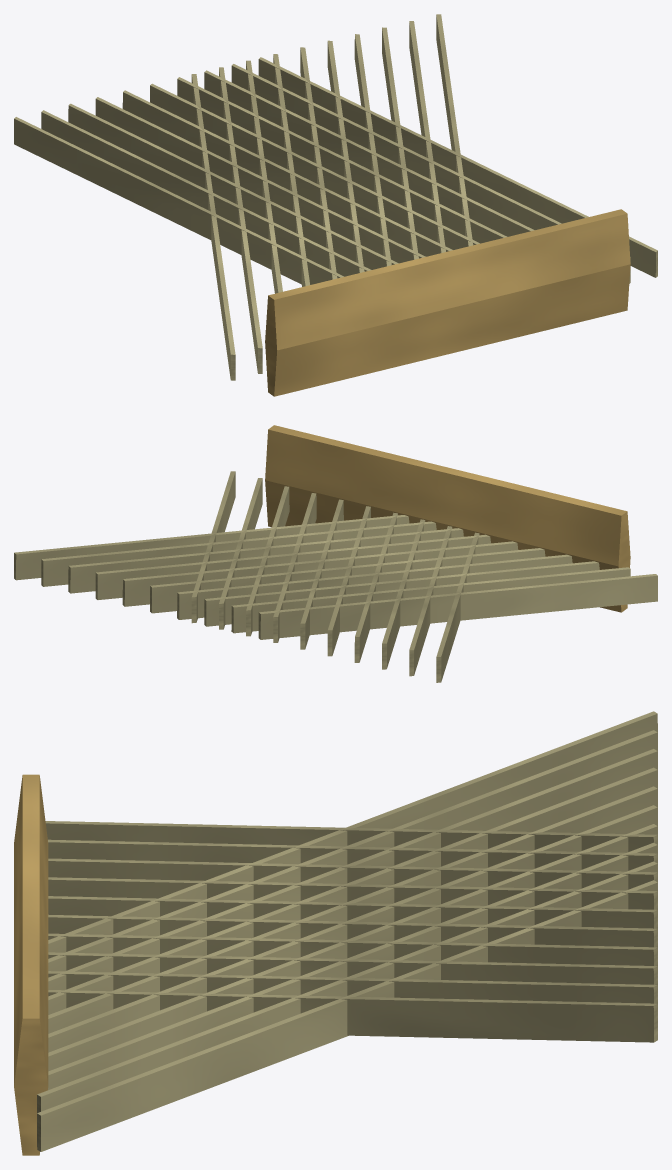
The model's file is fishing_net_pile.fbx.
The picture shows the model from 3 angles, top to bottom: view 1: azimuth 30°, elevation 25°; view 2: azimuth 150°, elevation 25°; view 3: azimuth 270°, elevation 25°; orthographic projection. The views are drawn at different scales.
Parts seen in each view (by area): view 1: fishing_net_pile; view 2: fishing_net_pile; view 3: fishing_net_pile.
Part boxes in pixels (x1,y1,x2,y2): fishing_net_pile: (14,14,657,396); fishing_net_pile: (14,425,657,682); fishing_net_pile: (14,711,657,1155).
Size of the model in its own units: 130 by 36 by 120.
Materials: 1 (1 with a texture image).
